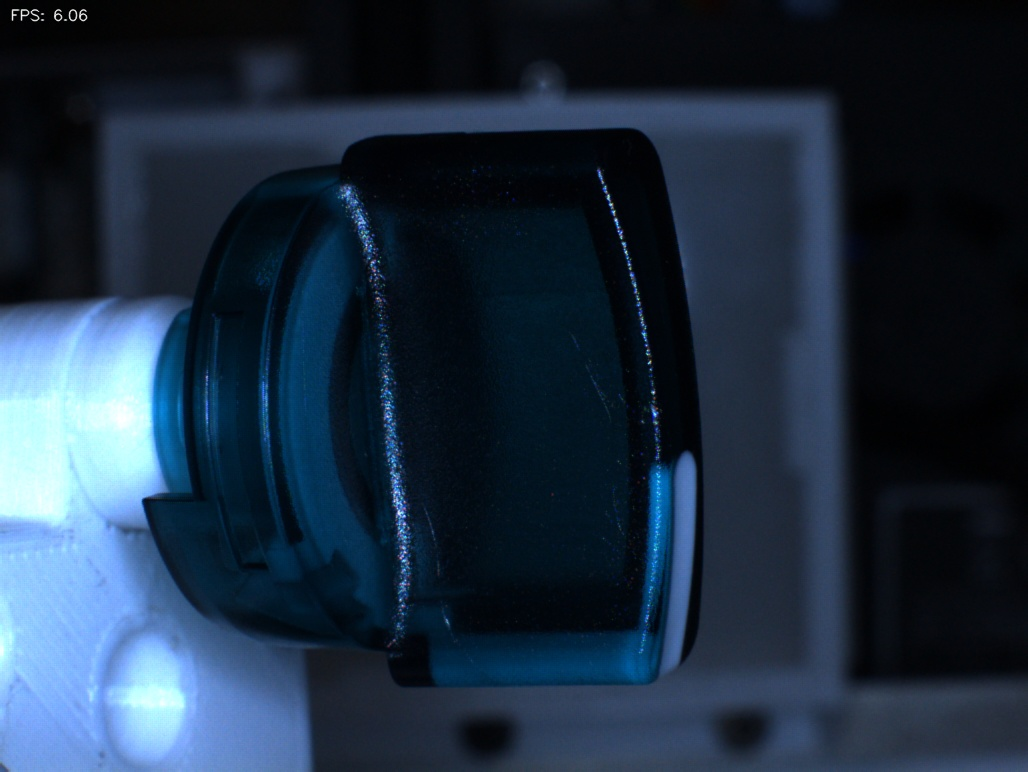Givrage: (409, 479, 472, 655), (554, 314, 633, 432), (574, 470, 644, 574)
